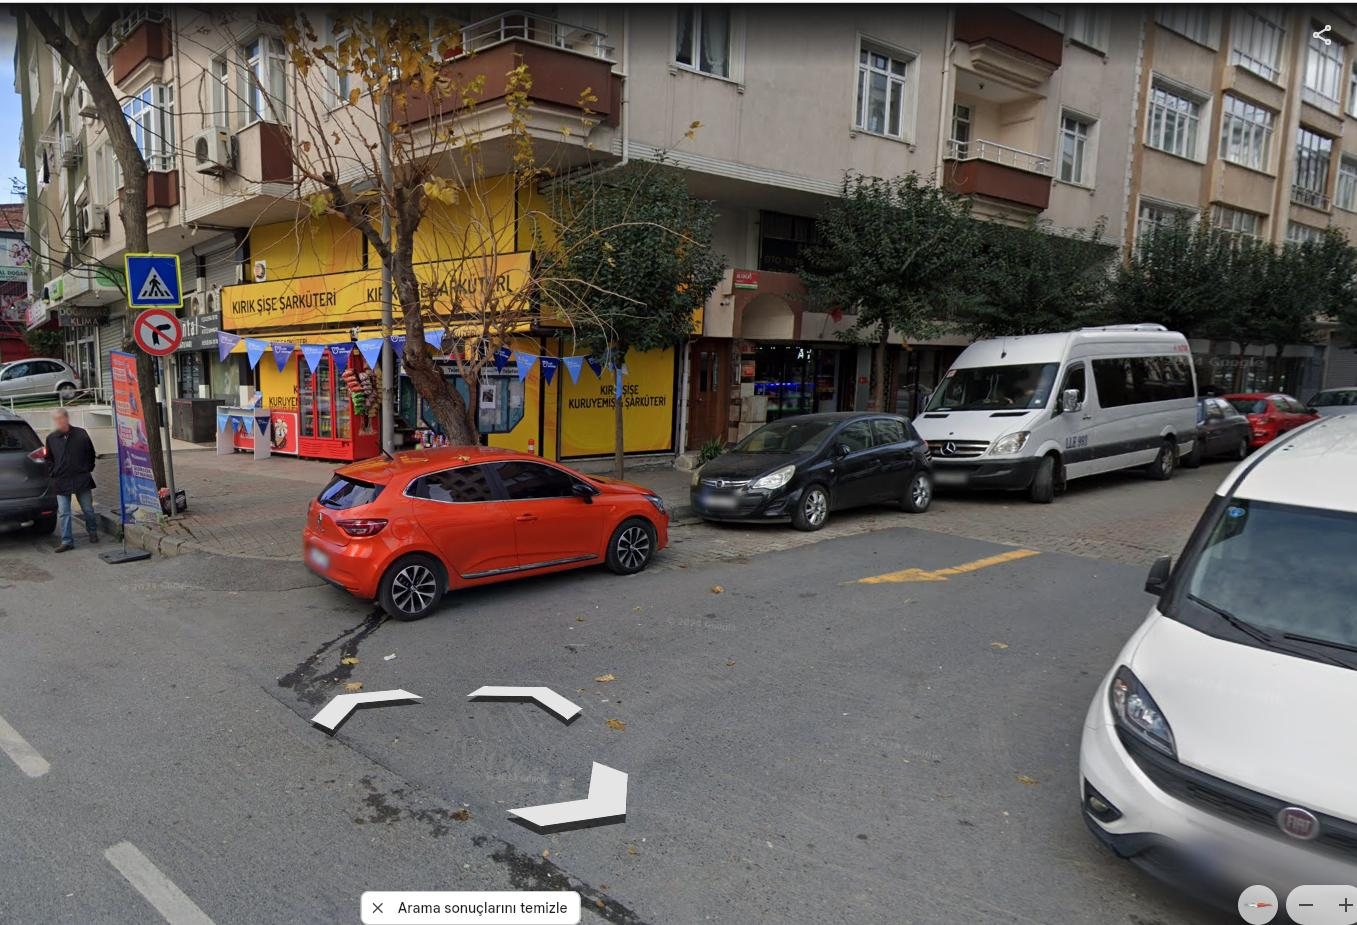rightturnsareforbidden: (134, 310, 179, 354)
